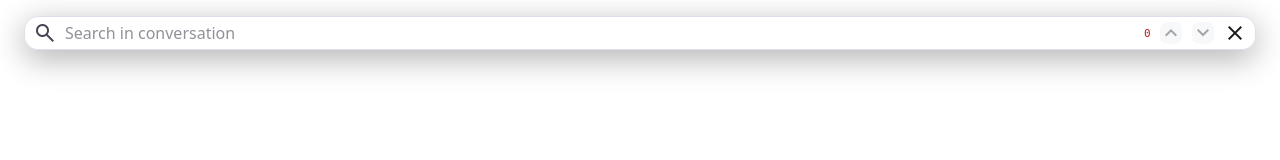
Test: ChatSearchBar — close behavior › prev/next buttons navigate like the keys
Type "panda" into the field labelled "Search in conversation".
click(600, 33); type("panda")  # box [65,21,1136,45]
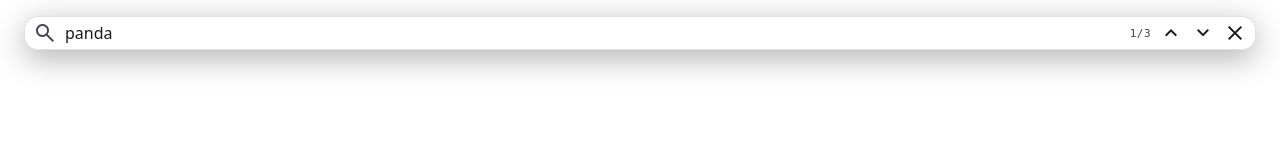
Click the button named "Next match (Enter)".
click(1203, 33)  # box [1191,21,1215,45]
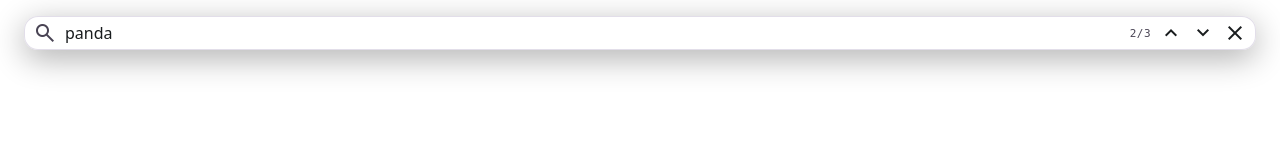
Check: the text with test id "chat-search-count" reads "2/3", box [1130,26,1151,40]
Click the button named "Previous match (Shift+Enter)".
click(1171, 33)  # box [1159,21,1183,45]
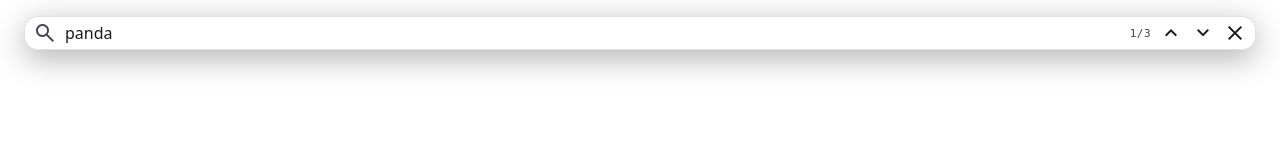
Check: the text with test id "chat-search-count" reads "1/3", box [1130,26,1151,40]
